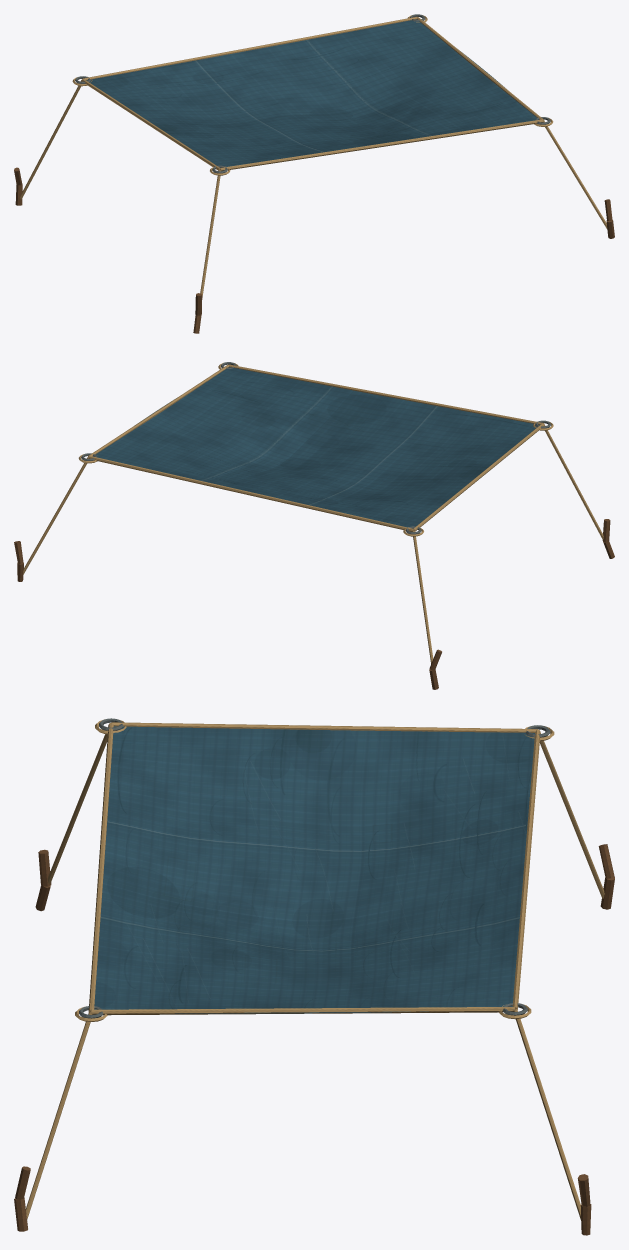
The model's file is pr-001_tarp_presenning__placed.obj.
3 renders of one model, top to bottom at view 1: azimuth 30°, elevation 25°; view 2: azimuth 150°, elevation 25°; view 3: azimuth 270°, elevation 25°, orthographic. The views are drawn at different scales.
Visible parts, largest first — view 1: pr-001_tarp_presenning__placed; view 2: pr-001_tarp_presenning__placed; view 3: pr-001_tarp_presenning__placed.
Part boxes in pixels (<box>): pr-001_tarp_presenning__placed: <box>14,14,614,333</box>; pr-001_tarp_presenning__placed: <box>14,362,614,689</box>; pr-001_tarp_presenning__placed: <box>14,718,614,1235</box>.
Size of the model in its own units: 2.8 by 0.8647 by 2.11.
6 materials, 6 textured.
